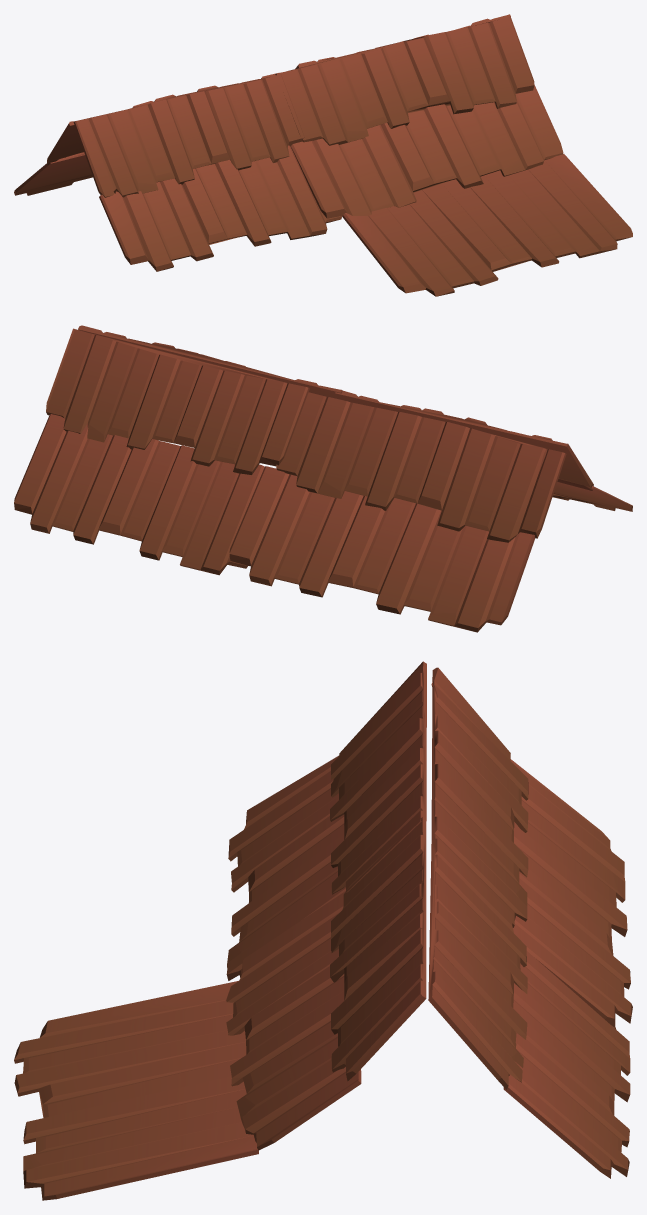
File: Roof_WoodPlanks.fbx
3 renders of one model, top to bottom at view 1: azimuth 30°, elevation 25°; view 2: azimuth 150°, elevation 25°; view 3: azimuth 270°, elevation 25°, orthographic. The views are drawn at different scales.
Visible parts, largest first — view 1: Roof_WoodPlanks; view 2: Roof_WoodPlanks; view 3: Roof_WoodPlanks.
Part boxes in pixels (<box>): Roof_WoodPlanks: <box>14,14,632,296</box>; Roof_WoodPlanks: <box>14,325,632,632</box>; Roof_WoodPlanks: <box>14,661,632,1200</box>.
Size of the model in its own units: 13.78 by 4.09 by 10.7.
